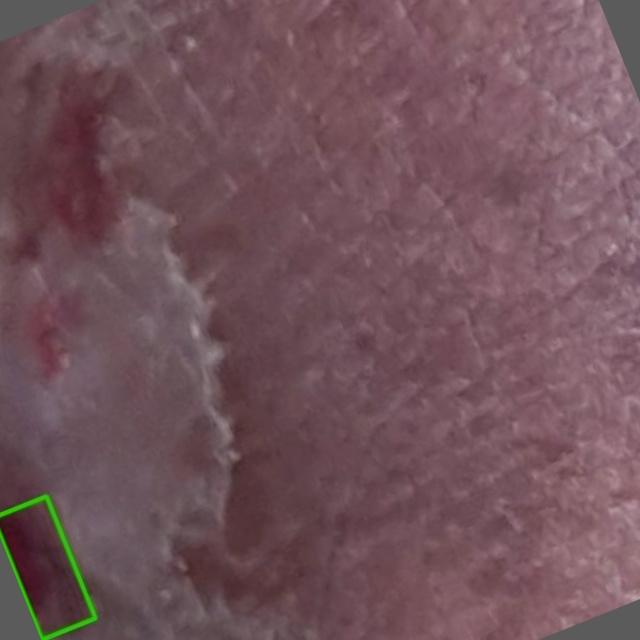Contact Dermatitis: (0, 496, 95, 639)
